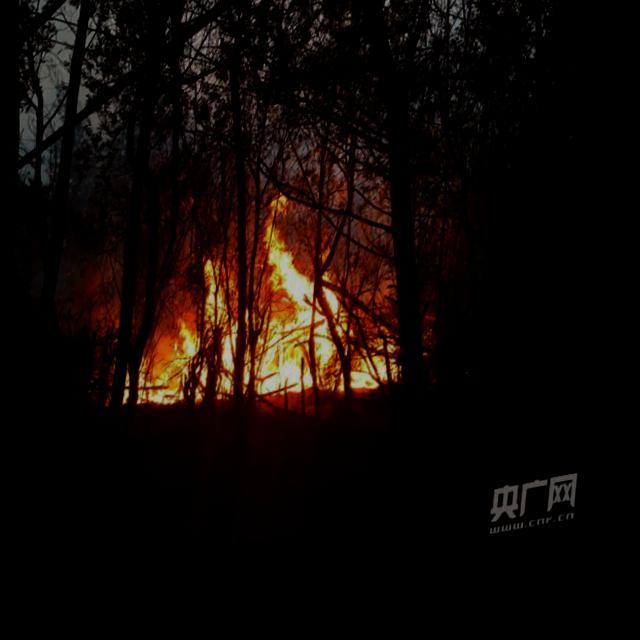Fire: (112, 182, 430, 450)
